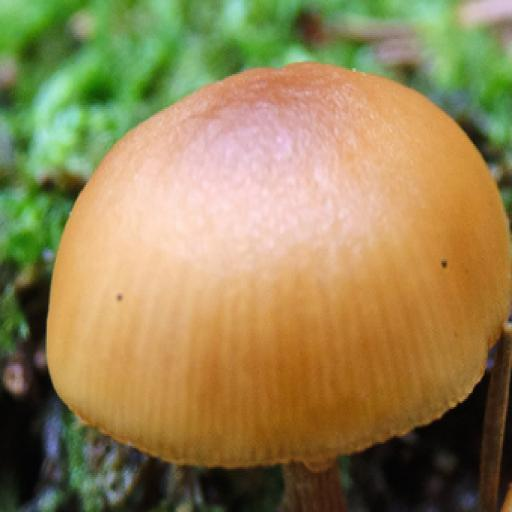mushroom: (34, 59, 512, 466)
